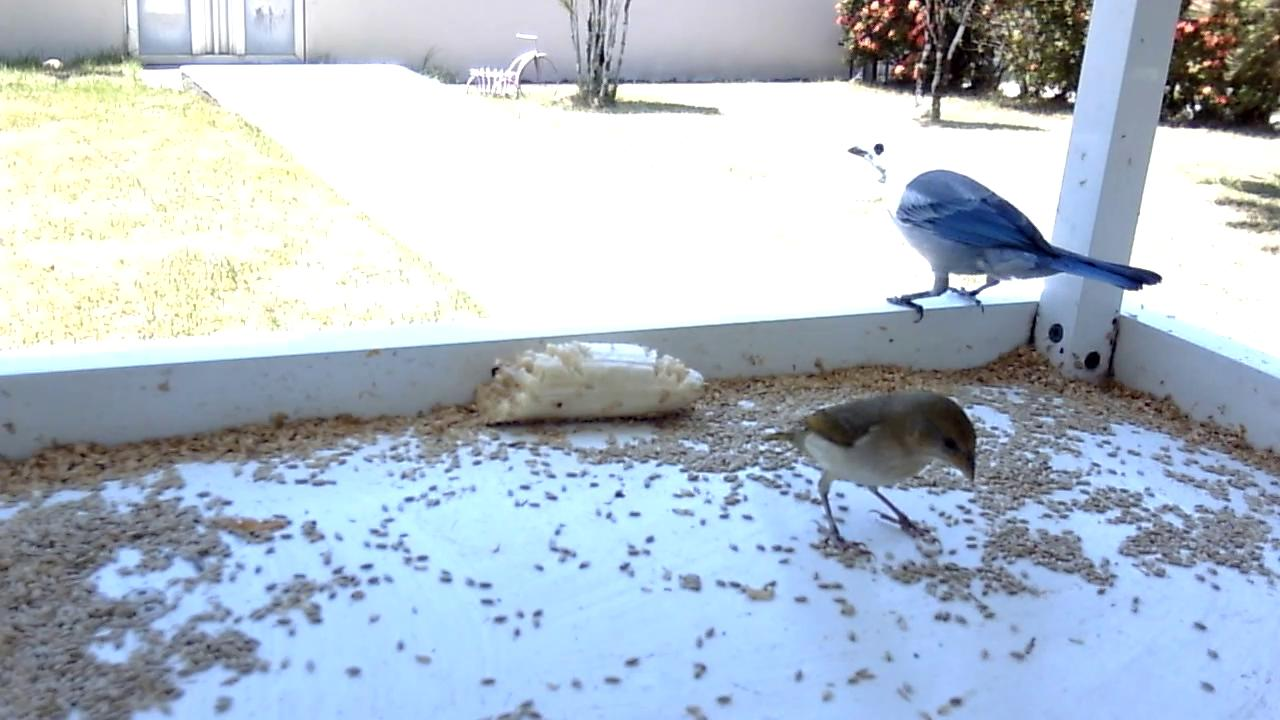canario_do_amazonas: (764, 388, 981, 559)
sanhaco_da_amazonia: (848, 140, 1163, 329)
